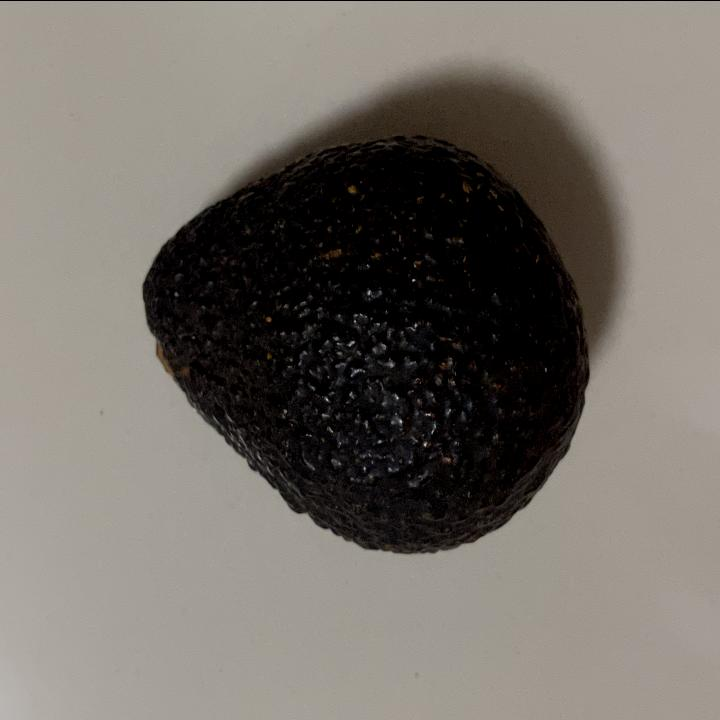Level2: (134, 124, 595, 560)
